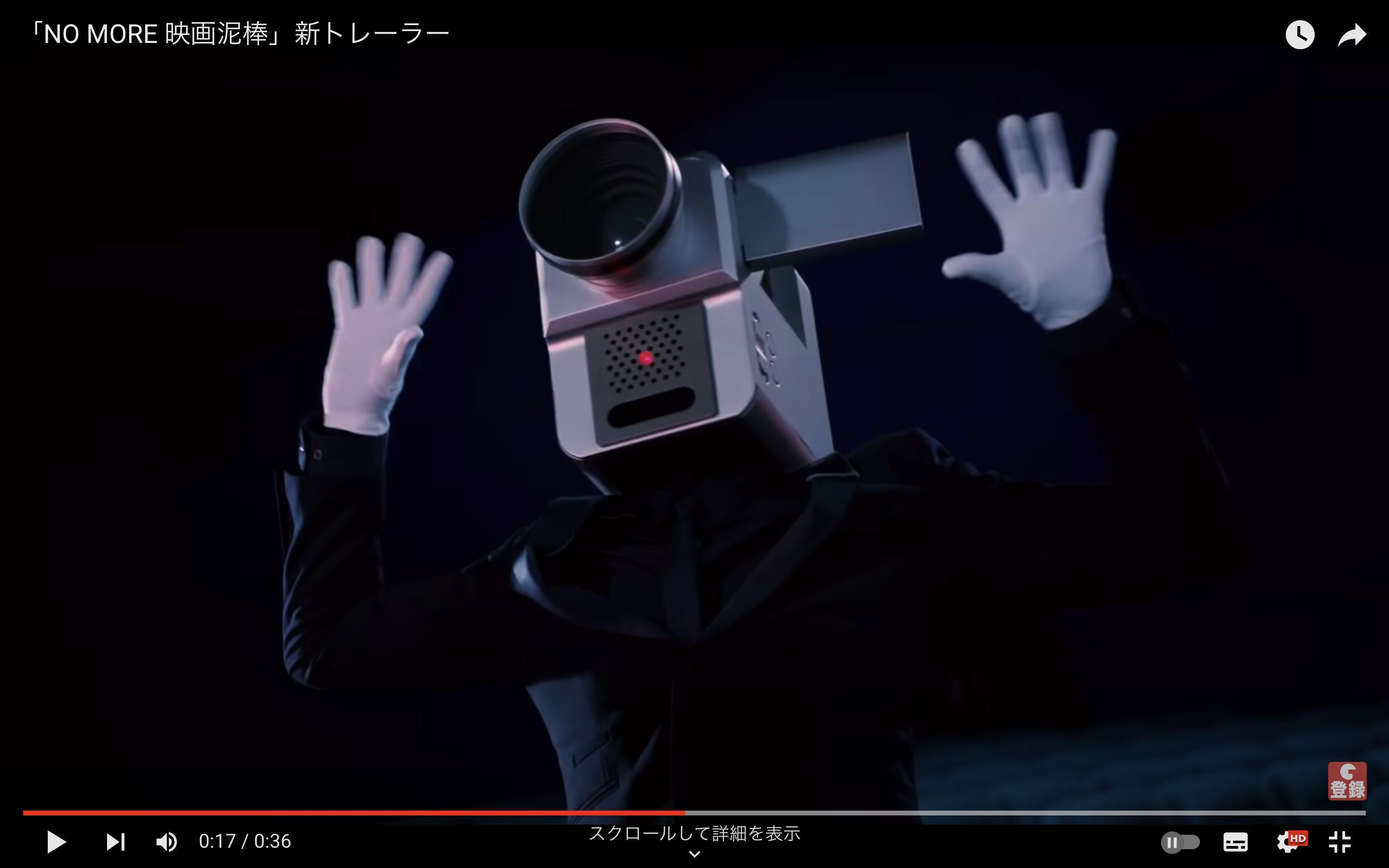no more kid: (498, 98, 941, 515)
